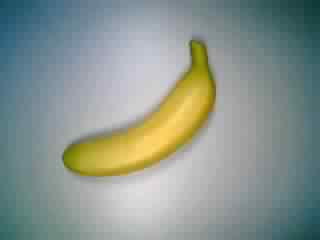banana: (56, 38, 223, 181)
